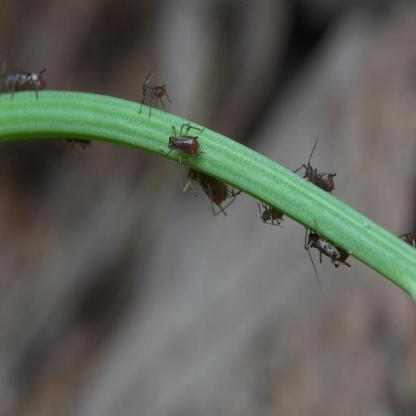aphid: (179, 149, 239, 218), (302, 222, 358, 268), (296, 145, 346, 196), (0, 56, 51, 98), (164, 119, 209, 164), (136, 68, 177, 116), (256, 188, 286, 229), (401, 228, 416, 255)
